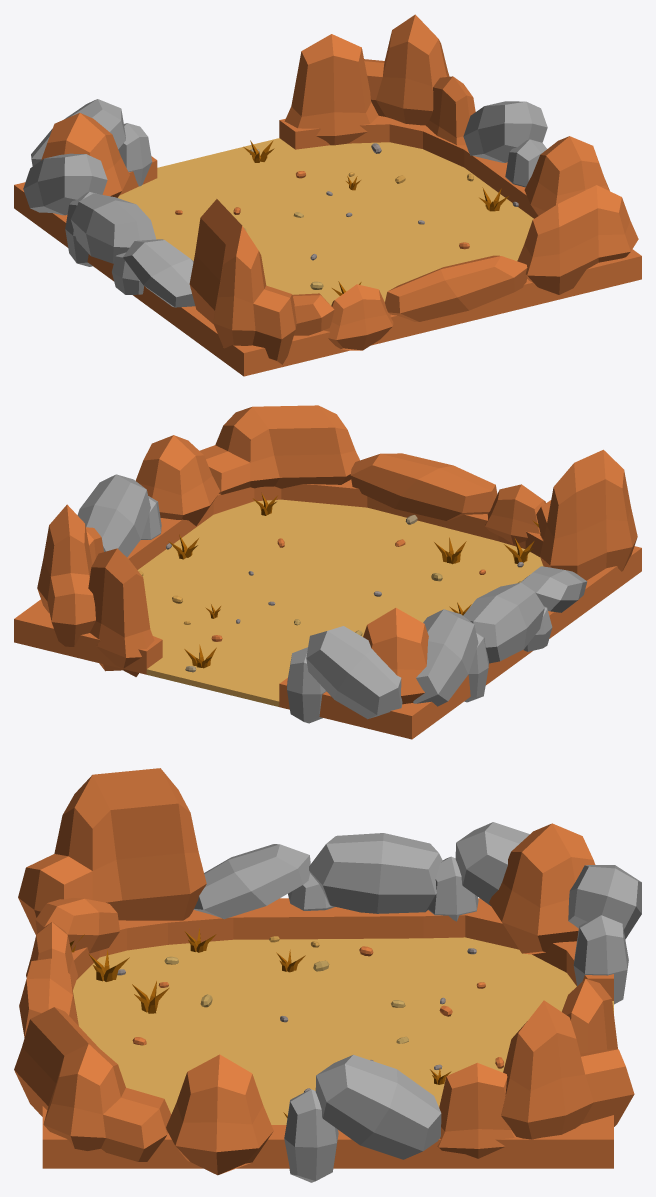
File: cave level set - 1 Way (1).fbx
The picture shows the model from 3 angles, top to bottom: view 1: azimuth 30°, elevation 25°; view 2: azimuth 150°, elevation 25°; view 3: azimuth 270°, elevation 25°; orthographic projection. The views are drawn at different scales.
Visible parts, largest first — view 1: land_platform_001, Cube_003, Cube_004, Cube_008, Cube_009, Cube_002, Cube_012, Cube_010, Cube_013, Cube_014, Cube_011, Cube (+4 smaller); view 2: land_platform_001, Cube_004, Cube_003, Cube_007, Cube_002, Cube_009, Cube_008, Cube_010, Cube_011, Cube_012, Cube_014, Cube (+2 smaller); view 3: land_platform_001, Cube_003, Cube_004, Cube_012, Cube_009, Cube_011, Cube_014, Cube, Cube_007, Cube_013, Cube_006, Cube_010 (+4 smaller).
Boxes of the visible parts, <box> form: land_platform_001: <box>14,116,641,376</box>; Cube_003: <box>189,199,296,364</box>; Cube_004: <box>517,185,638,294</box>; Cube_008: <box>284,34,378,145</box>; Cube_009: <box>364,14,449,125</box>; Cube_002: <box>385,255,527,321</box>; Cube_012: <box>463,101,547,187</box>; Cube_010: <box>23,153,107,266</box>; Cube_013: <box>112,239,195,307</box>; Cube_014: <box>70,193,156,263</box>; Cube_011: <box>524,136,609,215</box>; Cube: <box>41,113,129,197</box>; land_platform_001: <box>14,479,641,739</box>; Cube_004: <box>199,405,359,494</box>; Cube_003: <box>540,449,637,580</box>; Cube_007: <box>287,626,402,723</box>; Cube_002: <box>350,453,497,520</box>; Cube_009: <box>37,504,95,646</box>; Cube_008: <box>88,548,154,676</box>; Cube_010: <box>413,609,488,706</box>; Cube_011: <box>135,435,220,526</box>; Cube_012: <box>77,474,161,557</box>; Cube_014: <box>463,582,544,663</box>; Cube: <box>363,608,428,704</box>; land_platform_001: <box>42,898,613,1168</box>; Cube_003: <box>18,768,206,934</box>; Cube_004: <box>14,1007,171,1161</box>; Cube_012: <box>284,1054,441,1182</box>; Cube_009: <box>501,1000,634,1139</box>; Cube_011: <box>166,1054,273,1175</box>; Cube_014: <box>309,833,442,913</box>; Cube: <box>489,823,595,954</box>; Cube_007: <box>568,865,641,1004</box>; Cube_013: <box>193,844,335,919</box>; Cube_006: <box>437,1062,515,1158</box>; Cube_010: <box>428,822,529,921</box>.
Size of the model in its own units: 17.39 by 5.55 by 16.69.
